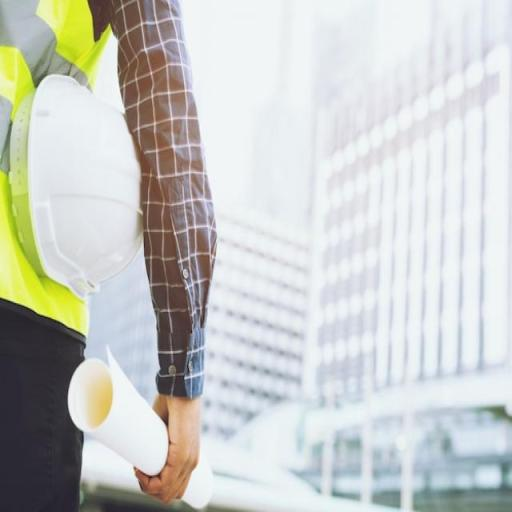helmet: (22, 69, 143, 303)
vest: (1, 33, 82, 338)
